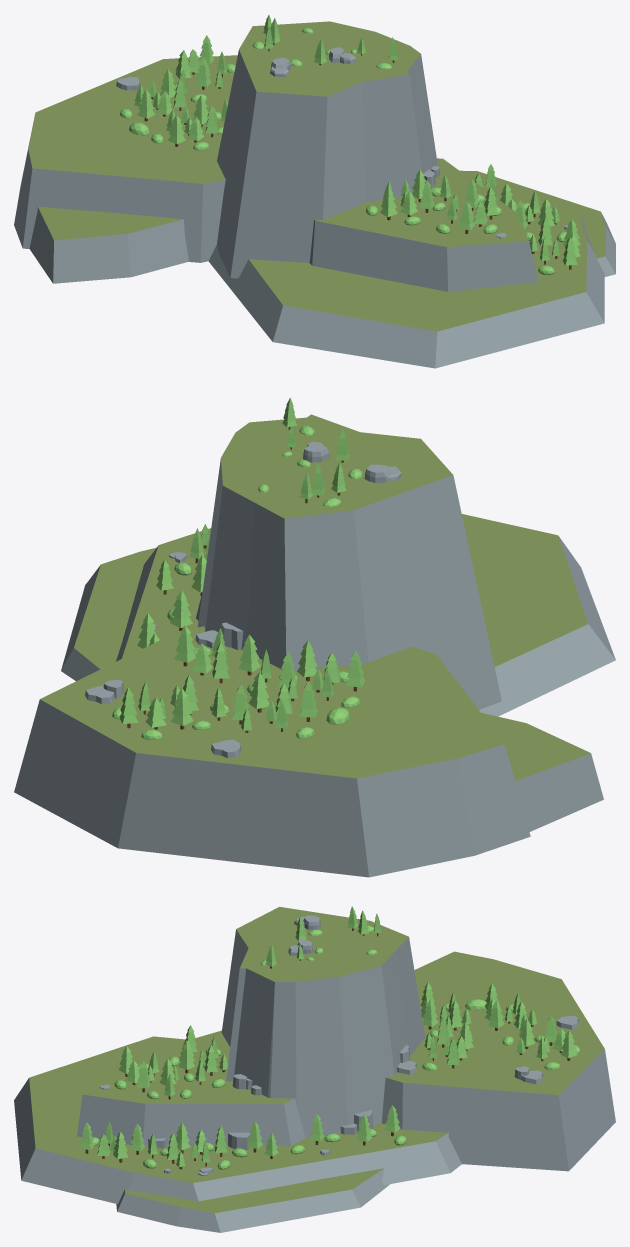
Rendered from MountainBackground5.fbx.
The picture shows the model from 3 angles, top to bottom: view 1: azimuth 30°, elevation 25°; view 2: azimuth 150°, elevation 25°; view 3: azimuth 270°, elevation 25°; orthographic projection. The views are drawn at different scales.
Parts seen in each view (by area): view 1: Cube.015, Cube.010, Cube.017, Cube.016, Cube.235, Cube.014; view 2: Cube.017, Cube.015, Cube.010, Cube.235, Cube.014; view 3: Cube.015, Cube.017, Cube.010, Cube.016, Cube.014.
Boxes of the visible parts, x1,y1,x2,y2 form: Cube.015: [217, 21, 437, 278]; Cube.010: [208, 177, 604, 368]; Cube.017: [14, 55, 237, 262]; Cube.016: [309, 158, 538, 291]; Cube.235: [29, 206, 188, 283]; Cube.014: [460, 170, 615, 276]; Cube.017: [14, 626, 530, 877]; Cube.015: [198, 414, 501, 709]; Cube.010: [116, 514, 615, 716]; Cube.235: [481, 713, 603, 831]; Cube.014: [61, 547, 156, 681]; Cube.015: [221, 906, 425, 1137]; Cube.017: [381, 951, 615, 1171]; Cube.010: [14, 1036, 461, 1204]; Cube.016: [77, 1030, 305, 1146]; Cube.014: [116, 1168, 389, 1232].
Size of the model in its own units: 9149 by 3886 by 10438.
